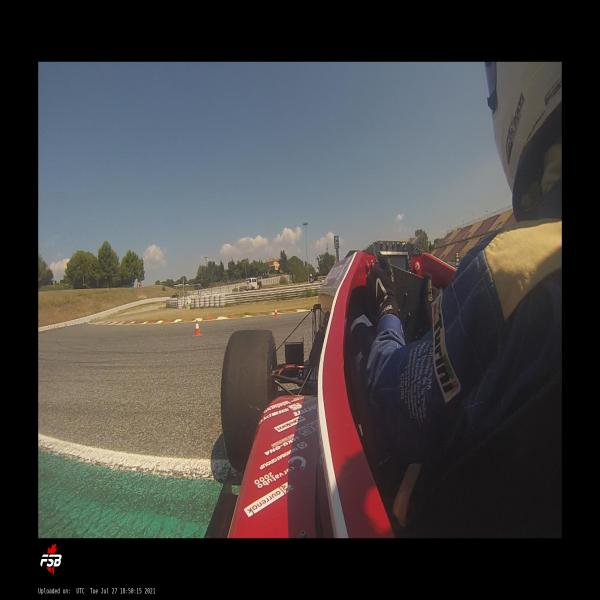orange_cone: (194, 320, 201, 336), (273, 307, 278, 317)
